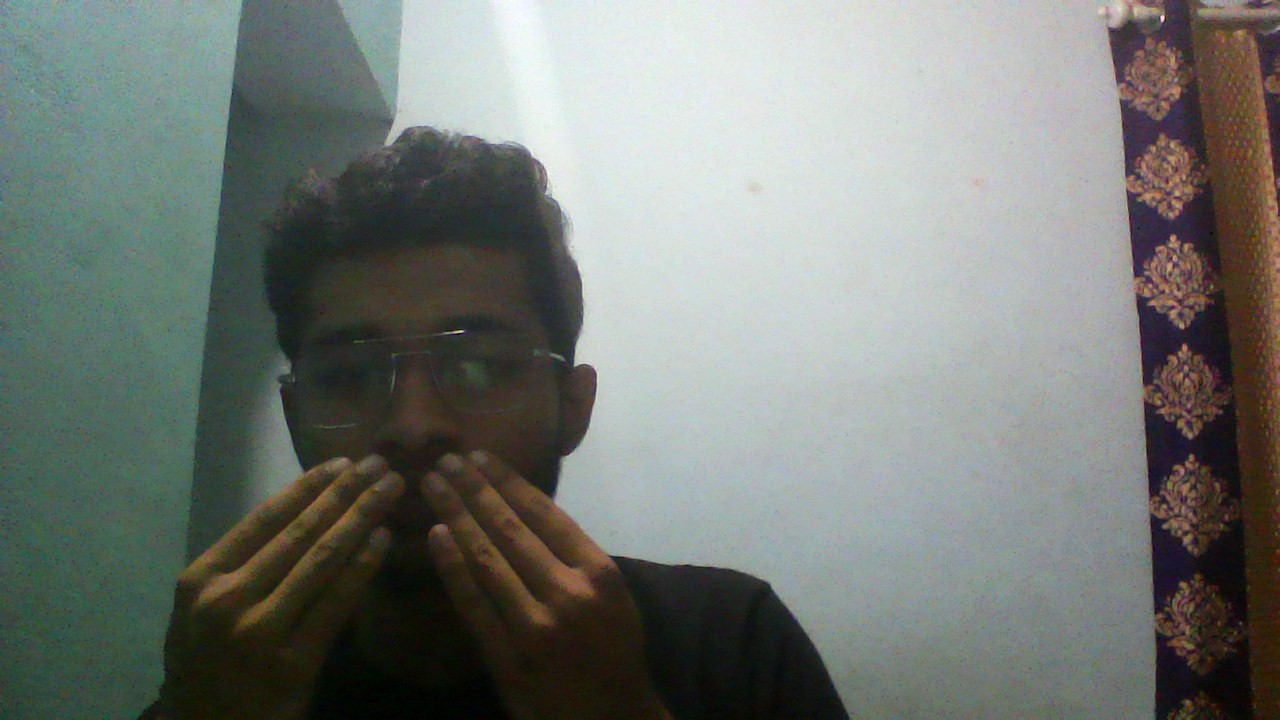Thanks: (162, 441, 639, 716)
